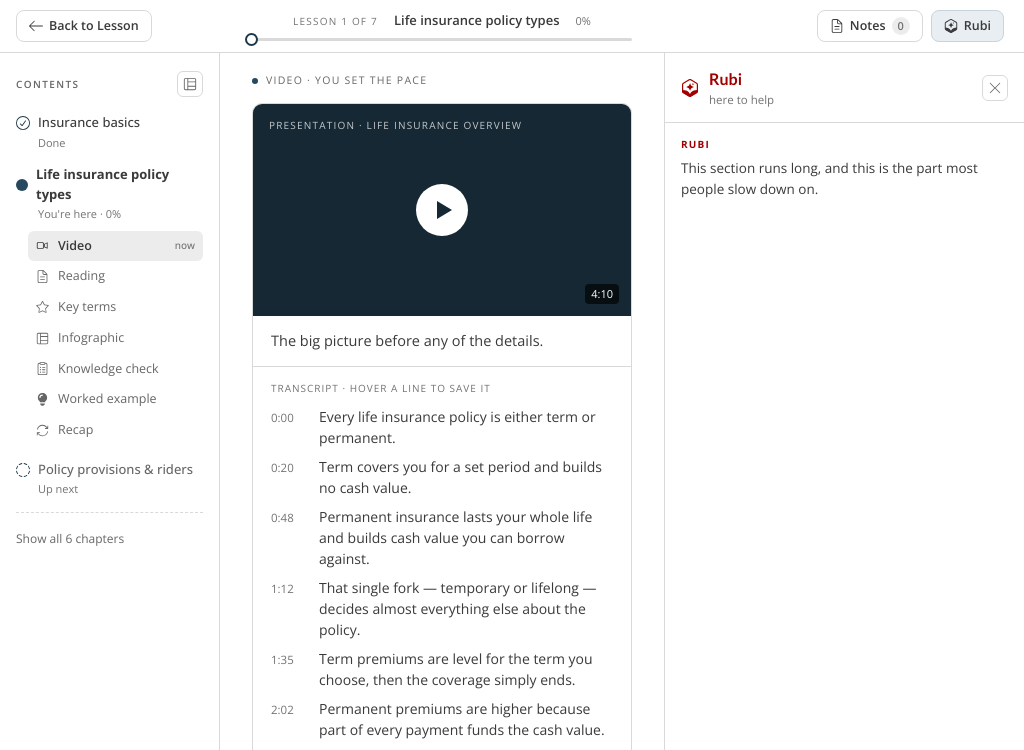
Test: the Knowledge check › numbers the questions and letters the options
Step 1. Click the button "Knowledge check" → (116, 369), box [28, 354, 203, 384]
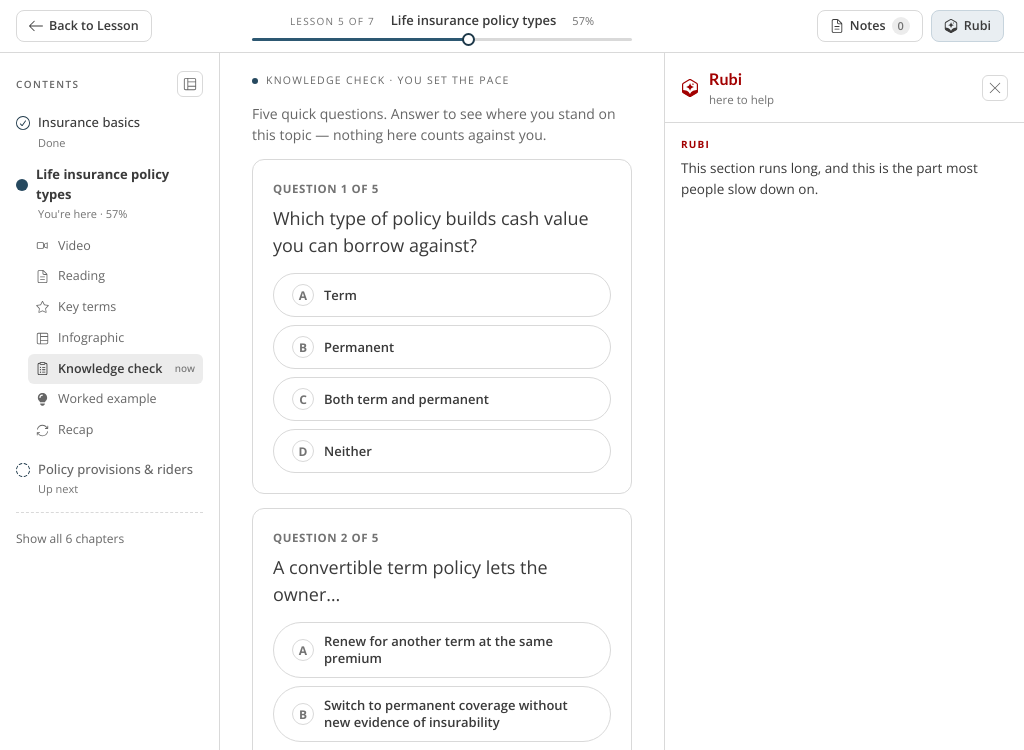
Expected: the text "Five quick questions" is shown, [252, 104, 616, 144]
Expected: the text "Question 1 of 5" is shown, [273, 181, 379, 196]
